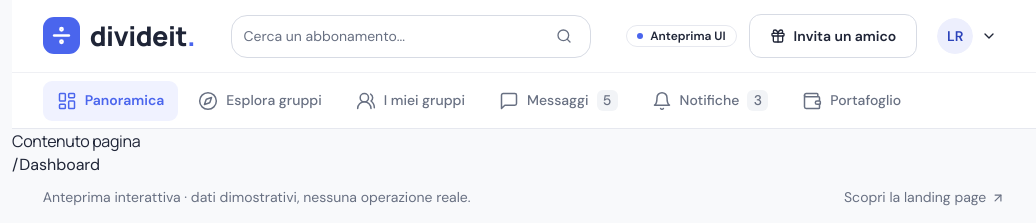
Test case: AppShell › opens the existing invitation route
Click the link "Invita un amico". click: (833, 36)
box: [749, 14, 917, 58]
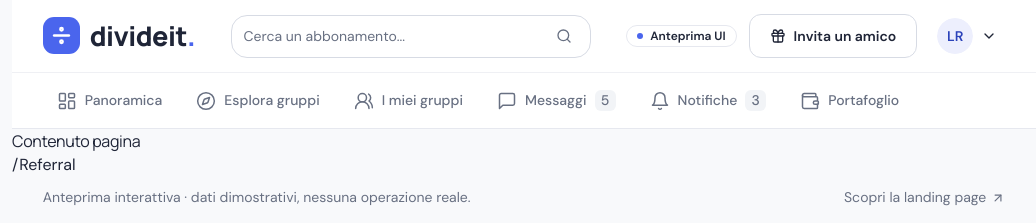
Expected: the text with test id "route" reads "/Referral", [12, 154, 76, 175]
